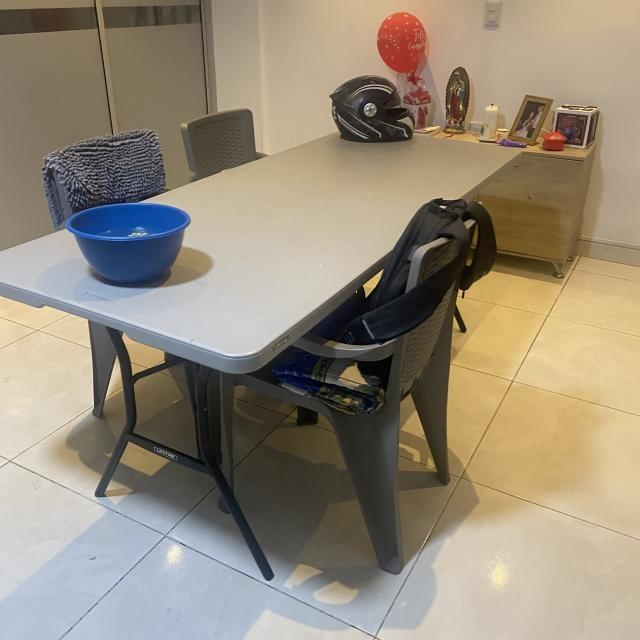obstacle: (2, 142, 522, 596), (392, 98, 596, 288)
